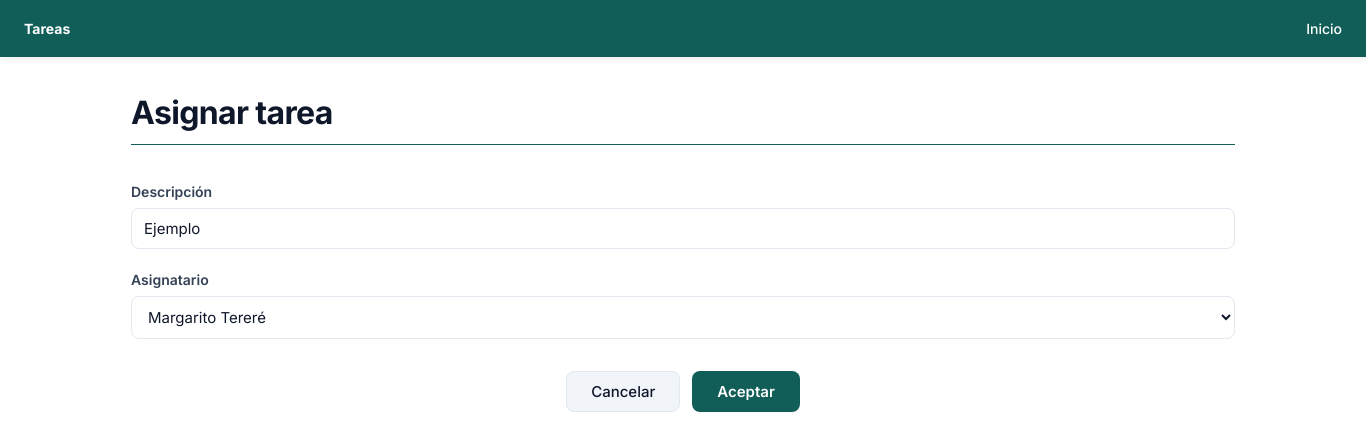
Scenario: tests de asignar tarea con paginador activado › al cambiar la descripción se actualiza la tarea
Step 1. Type " 2" into the field with test id "descripcion" → (683, 228), box [131,208,1235,249]
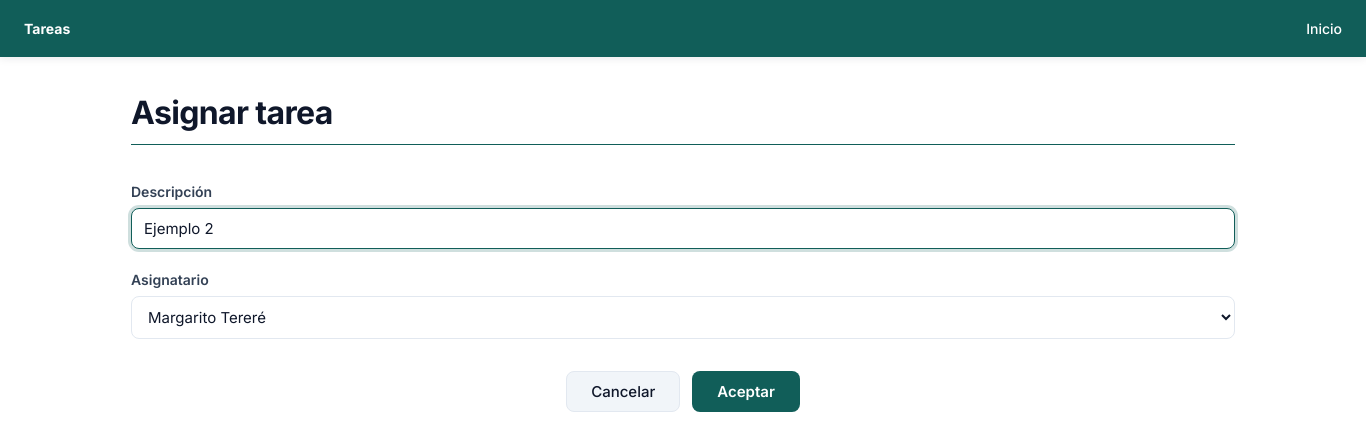
expect the field with test id "descripcion" holds "Ejemplo 2": met, box [131,208,1235,249]
